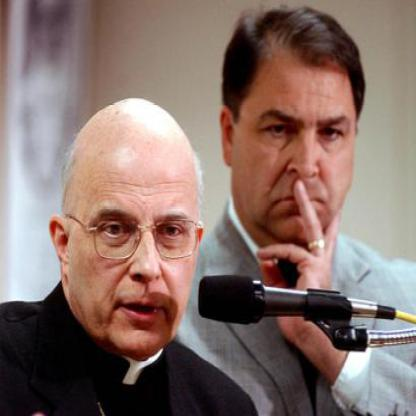face: (70, 110, 206, 360), (234, 26, 364, 245)
